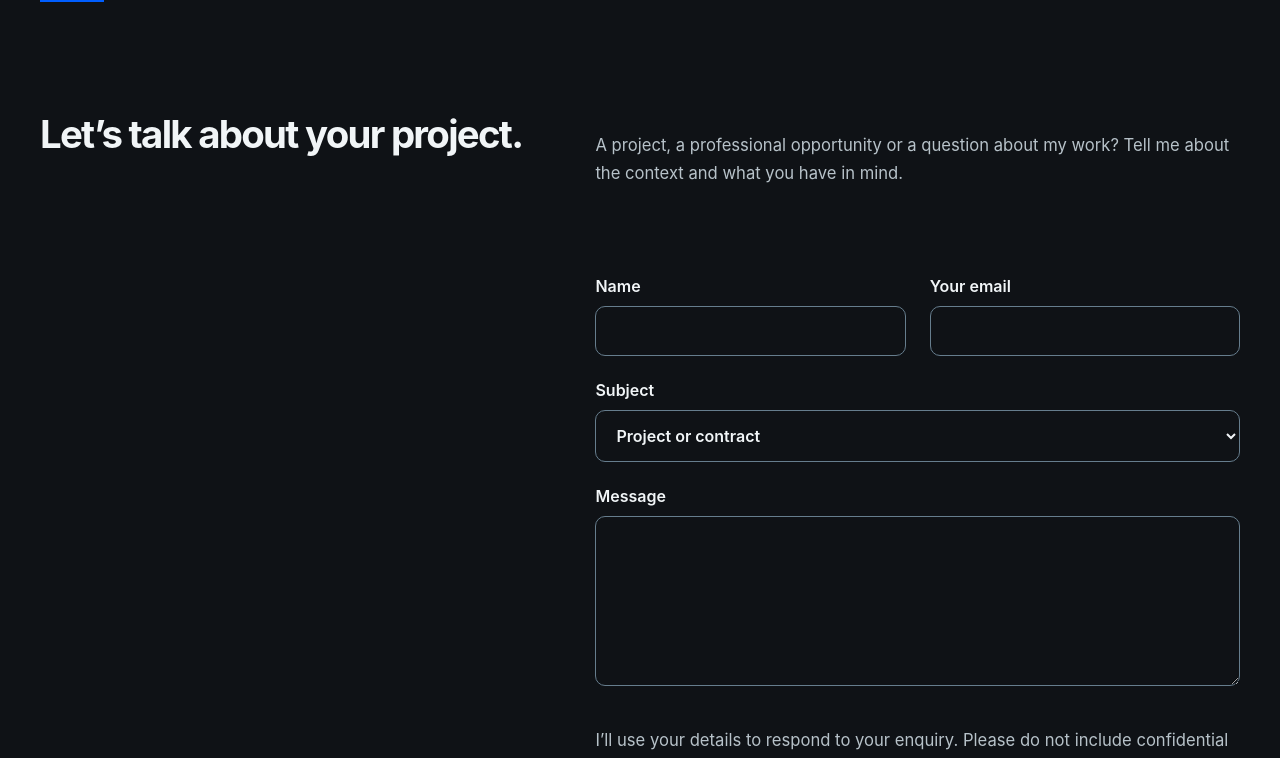
Test case: protected contact › keeps English draft and gives an honest ambiguous-failure message
The image size is (1280, 758).
Type "A draft worth preserving after an error." into the text box labelled "Message" at (918, 601), box [595,516,1240,686]
(page scrolled)
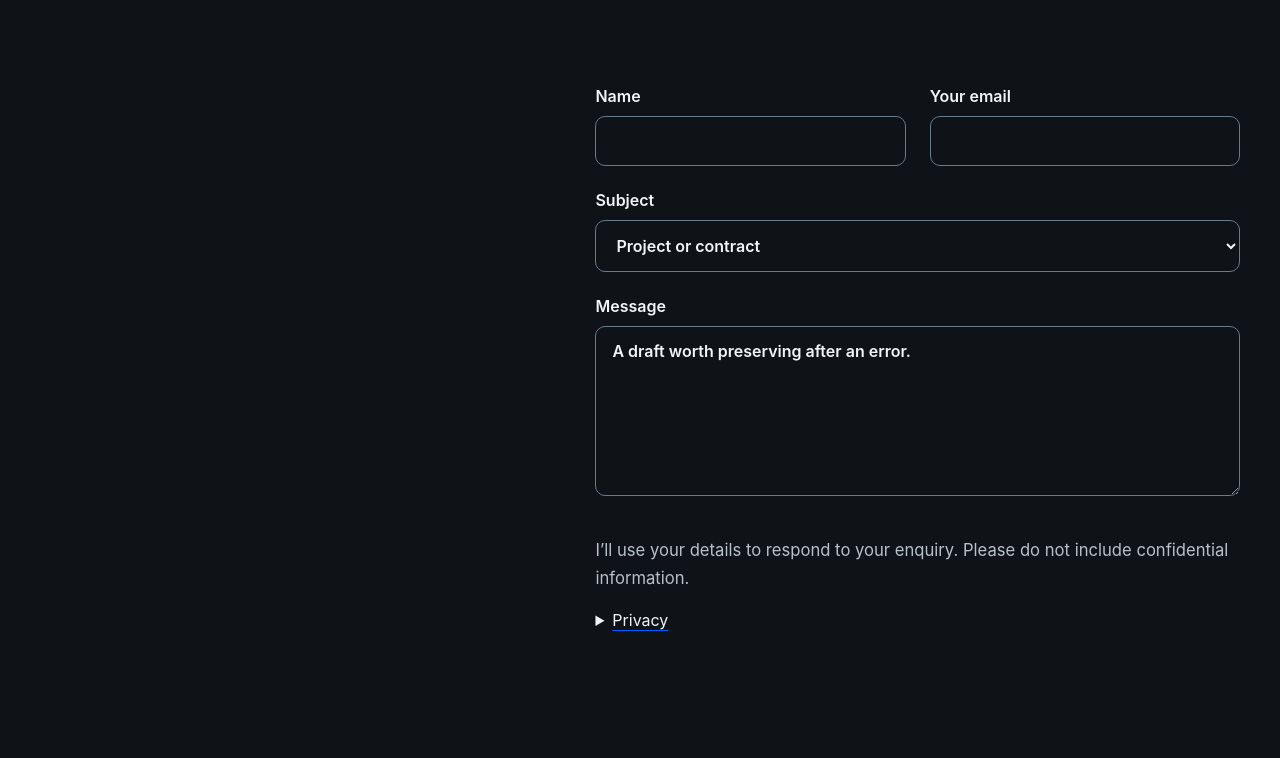
Submit the form named "Send a message"
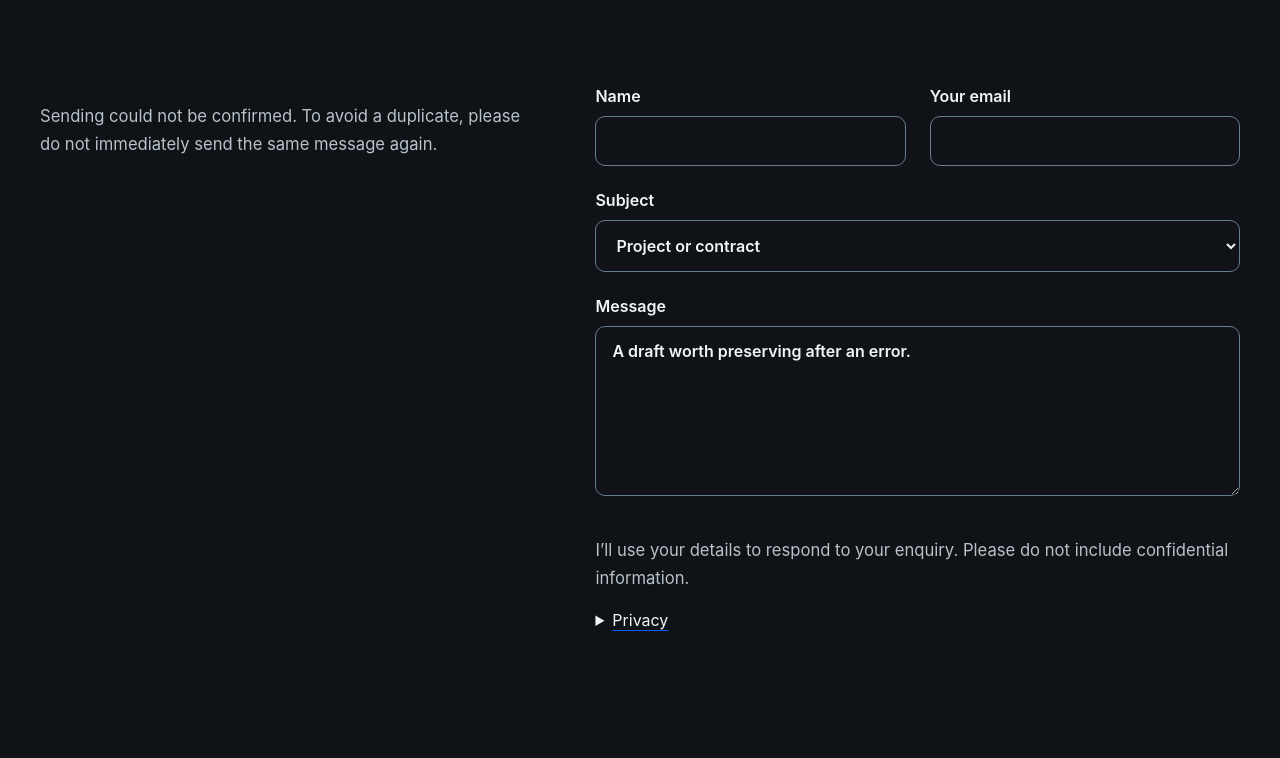
expect the text "Sending could not be confirmed" is shown: met, box [40,106,520,154]
